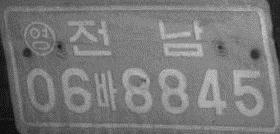0: (25, 66, 56, 113)
4: (195, 68, 227, 116)
5: (232, 68, 264, 117)
6: (59, 66, 91, 113)
8: (120, 66, 153, 114), (156, 67, 189, 114)
바: (92, 70, 119, 112)
영: (22, 20, 56, 56)
전남_D: (66, 17, 205, 57)
